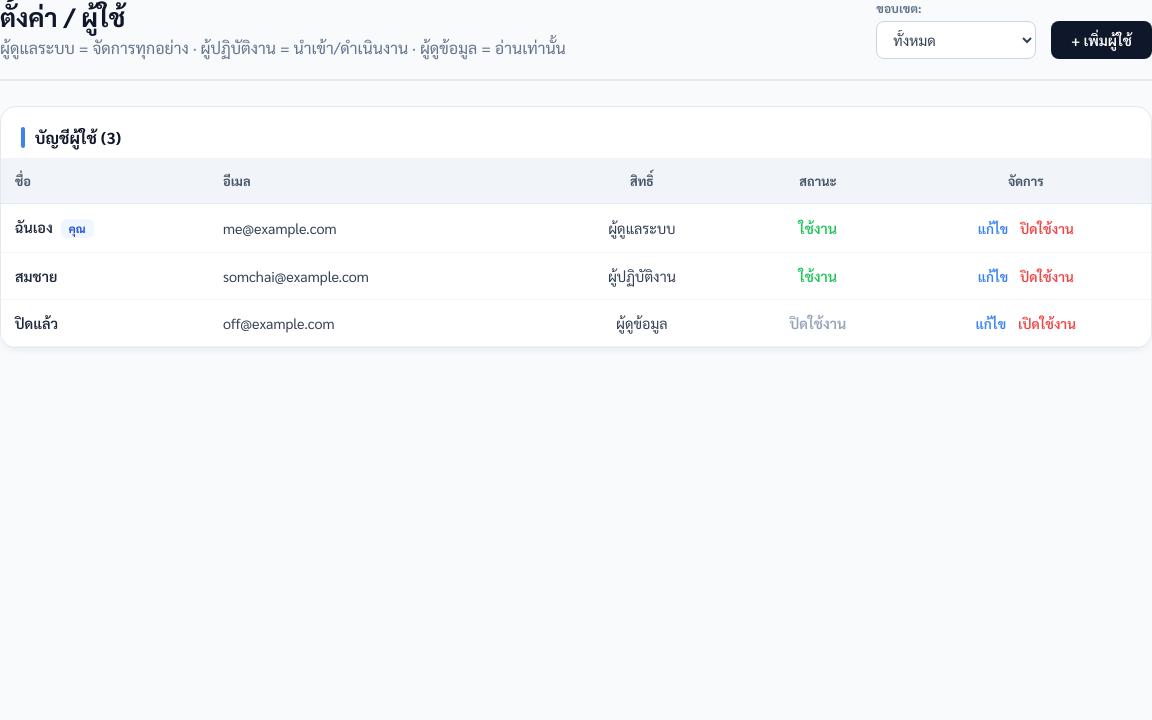
Test: UsersPage › api ปฏิเสธ (เช่น ต้องเหลือ admin หนึ่งคน) → แสดงข้อความบนฟอร์ม
Click the button "แก้ไข" in the row of "สมชาย" at (993,276), box [978, 267, 1008, 285]
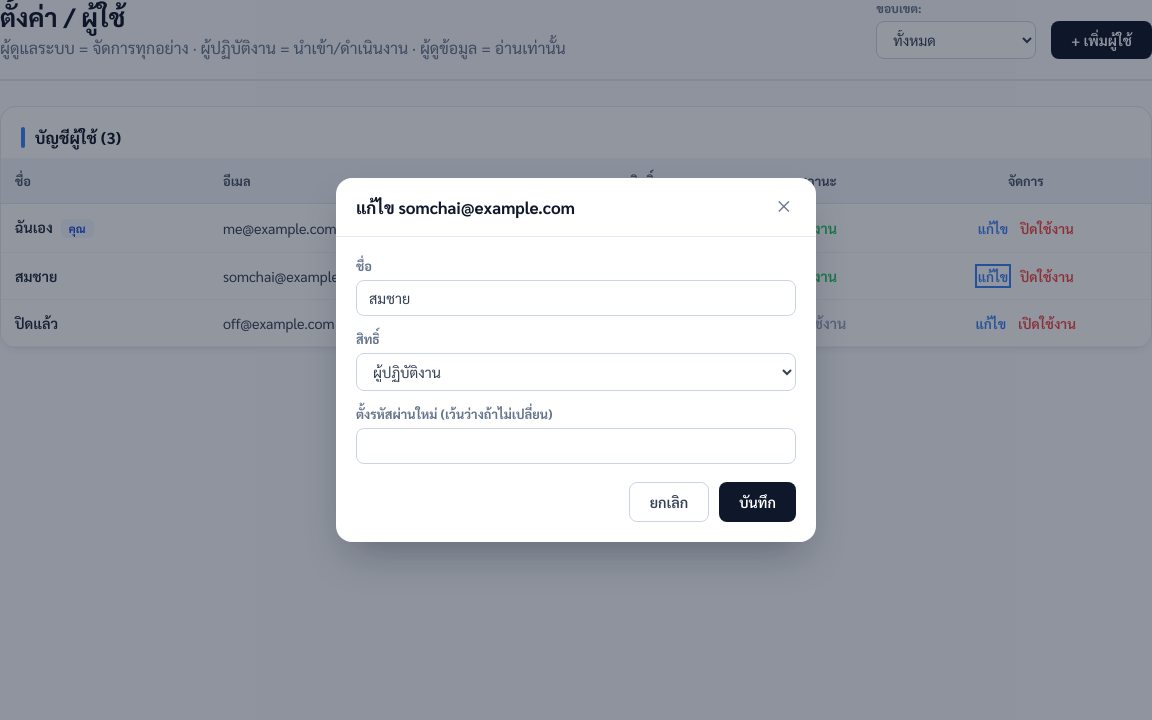
Click the button "บันทึก" at (758,502), box [719, 482, 796, 522]
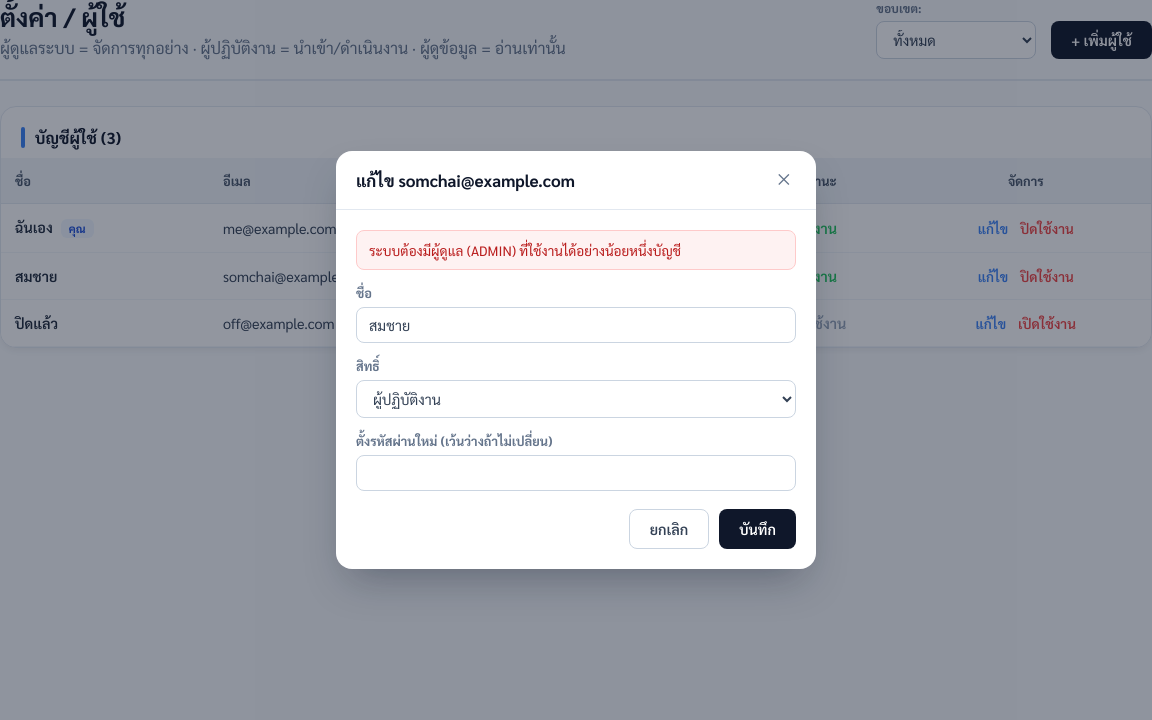
Expected: the text "ระบบต้องมีผู้ดูแล (ADMIN) ที่ใช้งานได้อย่างน้อยหนึ่งบัญชี" is shown, [356, 230, 796, 270]
